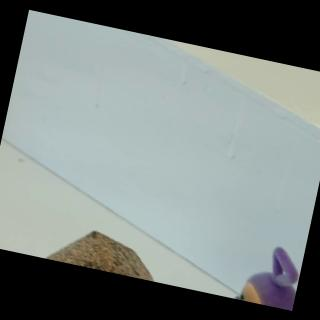teletubby: (234, 247, 298, 310)
